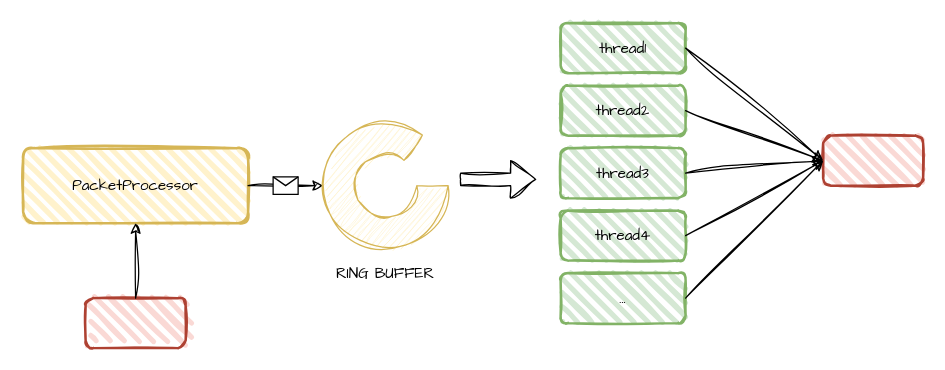
Image size: 945x370. Some labels were removed from this diagram. Each missing label, with the centre of its shape:
"docker0" goes at [135,322].
"ens33" goes at [872,160].
